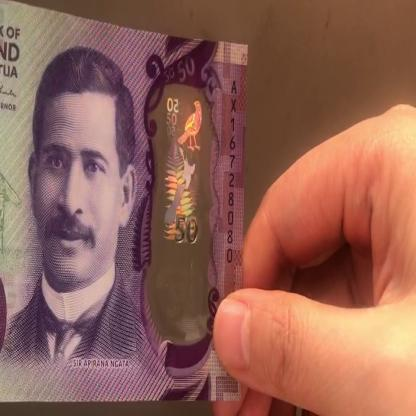50F: (162, 91, 203, 317)
